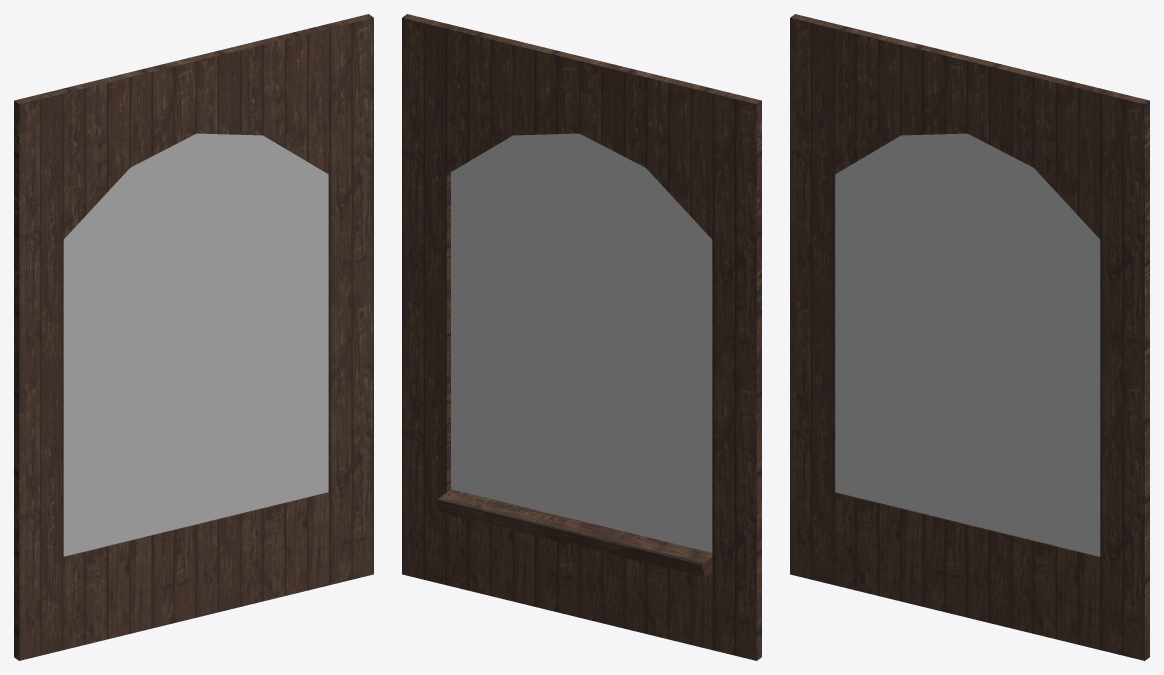
File: Bibliothek_Window.fbx
3 views of the same model, side by side, from view 1: azimuth 30°, elevation 25°; view 2: azimuth 150°, elevation 25°; view 3: azimuth 330°, elevation 25° (orthographic).
Parts seen in each view (by area): view 1: Bibliothek_Window; view 2: Bibliothek_Window; view 3: Bibliothek_Window.
Boxes of the visible parts, bbox=[...] form: Bibliothek_Window: bbox=[14, 14, 373, 660]; Bibliothek_Window: bbox=[402, 14, 761, 660]; Bibliothek_Window: bbox=[790, 14, 1149, 660].
Bounding box in the file's own units: 400 × 600 × 29.92.
